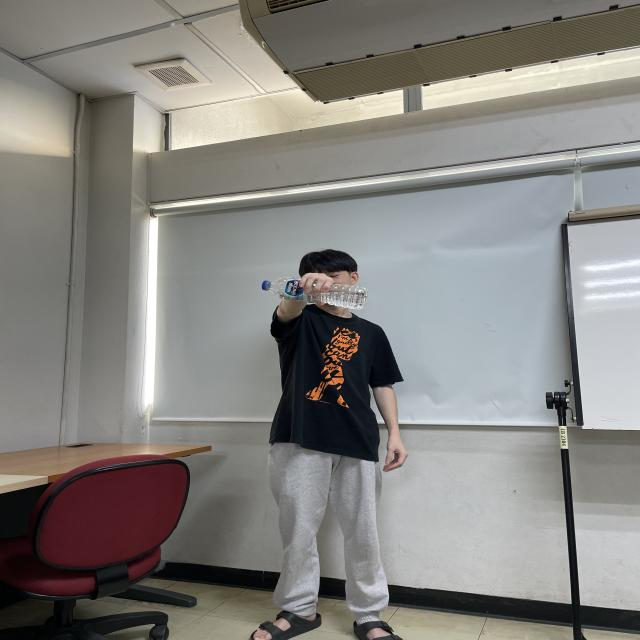bottle: (261, 277, 369, 311)
